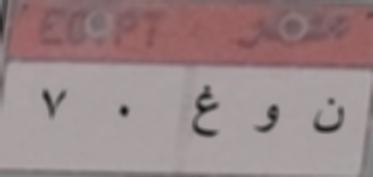0: (112, 84, 144, 134)
7: (35, 83, 73, 120)
ghayn: (185, 82, 230, 142)
noon: (306, 94, 354, 144)
waw: (246, 98, 292, 142)
